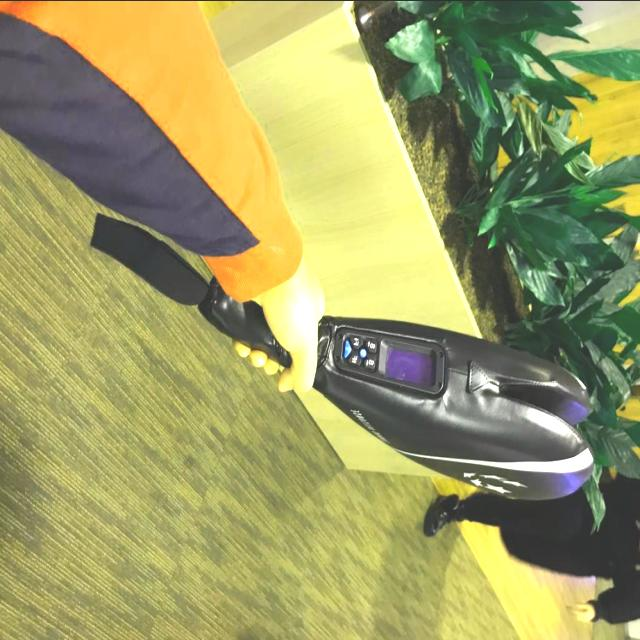paddle: (198, 274, 600, 502)
